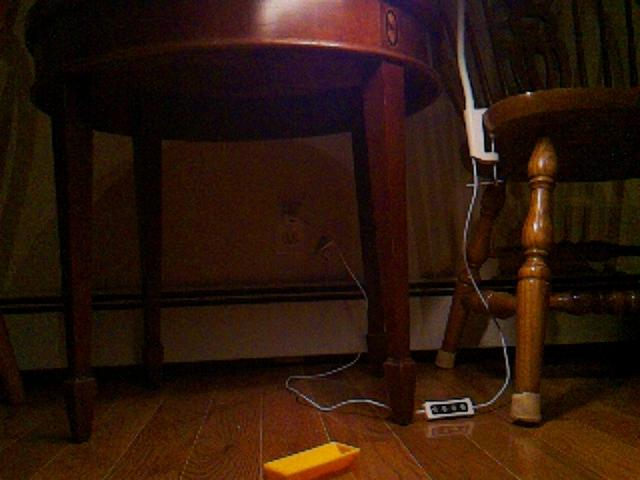yellow: (262, 440, 362, 480)
